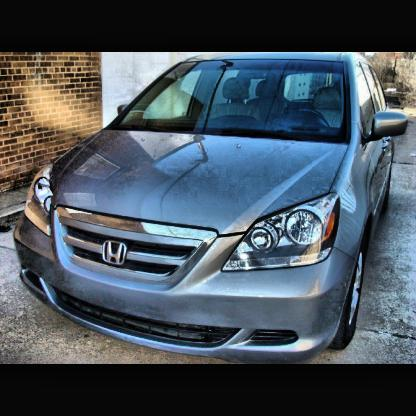Honda Odyssey Minivan 2007: (9, 54, 409, 365)
